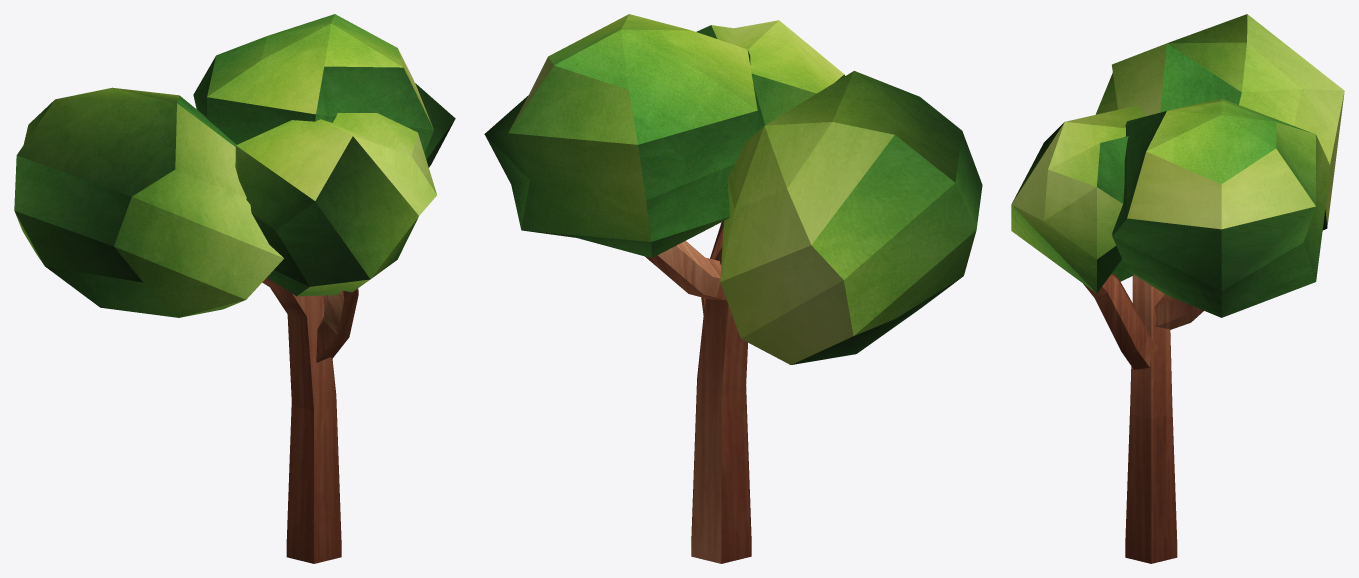
Rendered from Tree_v5.fbx.
3 views of the same model, side by side, from view 1: azimuth 30°, elevation 25°; view 2: azimuth 150°, elevation 25°; view 3: azimuth 270°, elevation 25° (orthographic). The views are drawn at different scales.
Parts seen in each view (by area): view 1: Tree_5; view 2: Tree_5; view 3: Tree_5.
Part boxes in pixels (bbox=[...]): Tree_5: bbox=[14, 14, 455, 563]; Tree_5: bbox=[484, 14, 982, 563]; Tree_5: bbox=[1011, 14, 1344, 563].
Size of the model in its own units: 5.61 by 5.87 by 3.84.
